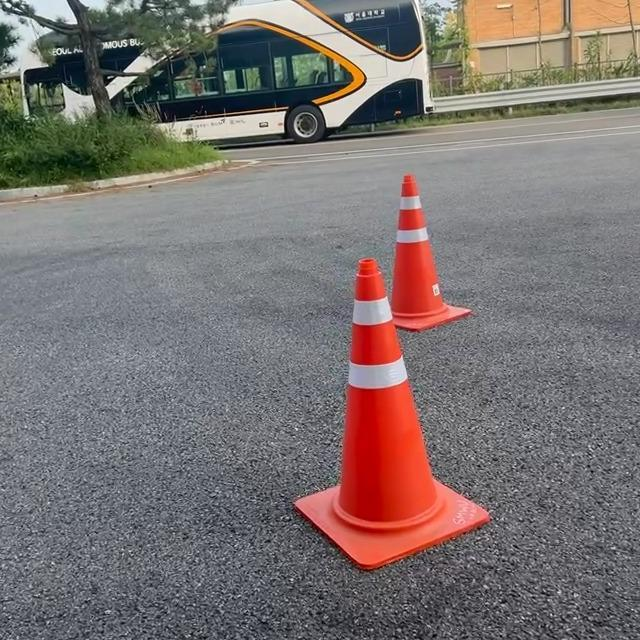fallen_object: (266, 249, 489, 640), (360, 130, 491, 356)
